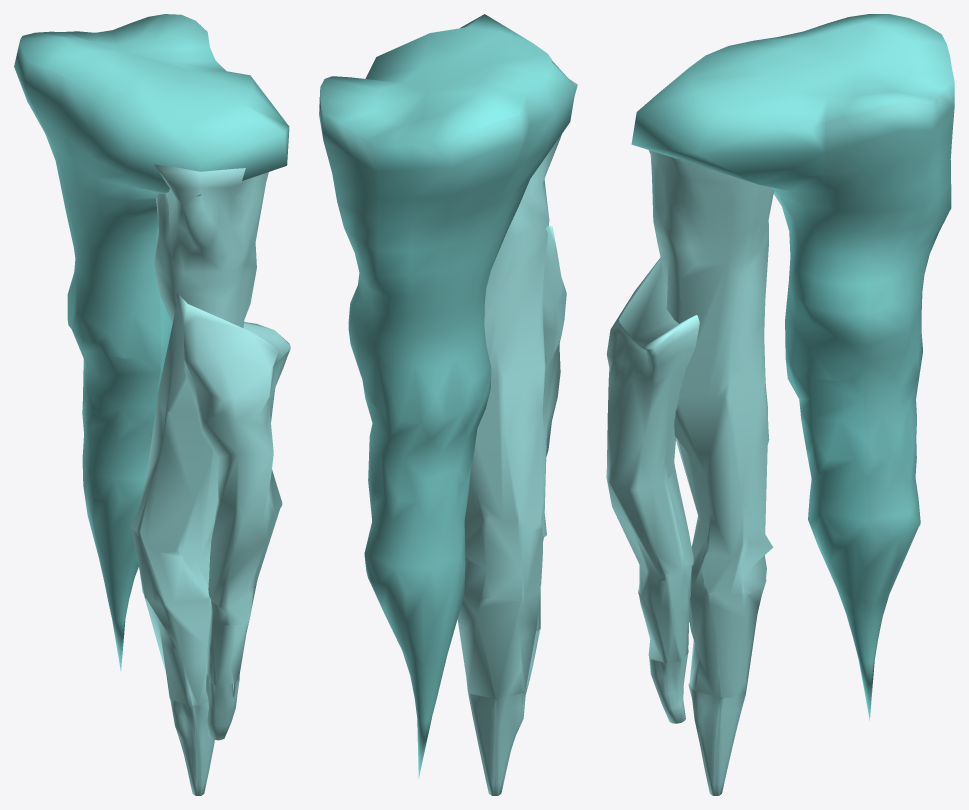
The model's file is icicleclump2.glb.
The picture shows the model from 3 angles, left to right: view 1: azimuth 30°, elevation 25°; view 2: azimuth 150°, elevation 25°; view 3: azimuth 270°, elevation 25°; orthographic projection. The views are drawn at different scales.
Visible parts, largest first — view 1: Cylinder.002, Cylinder, Cylinder.001; view 2: Cylinder.002, Cylinder, Cylinder.001; view 3: Cylinder.002, Cylinder, Cylinder.001.
Part boxes in pixels (bbox=[...]): Cylinder.002: bbox=[14, 14, 289, 671]; Cylinder: bbox=[130, 164, 268, 795]; Cylinder.001: bbox=[175, 291, 290, 740]; Cylinder.002: bbox=[319, 14, 575, 778]; Cylinder: bbox=[457, 79, 577, 795]; Cylinder.001: bbox=[525, 225, 566, 694]; Cylinder.002: bbox=[631, 14, 954, 720]; Cylinder: bbox=[649, 150, 773, 795]; Cylinder.001: bbox=[606, 257, 699, 723].
Size of the model in its own units: 1.03 by 3.83 by 1.63.
Materials: 2 (2 with a texture image).
